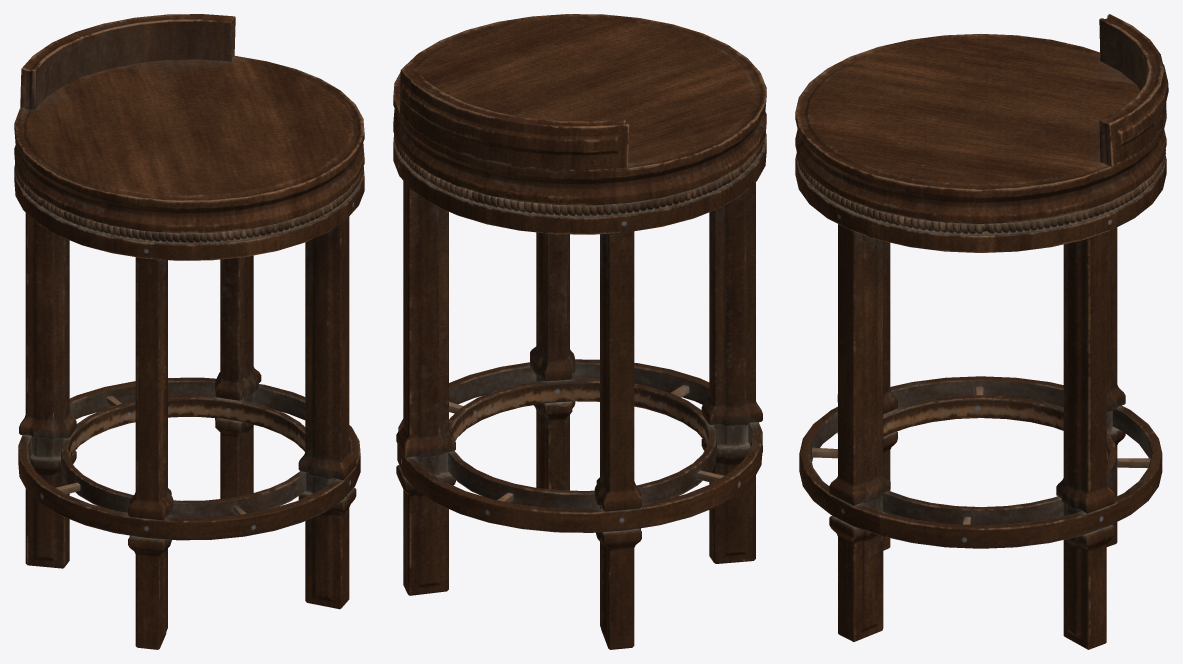
The model's file is bar_chair_round_01.obj.
The picture shows the model from 3 angles, left to right: view 1: azimuth 30°, elevation 25°; view 2: azimuth 150°, elevation 25°; view 3: azimuth 270°, elevation 25°; orthographic projection. The views are drawn at different scales.
Parts seen in each view (by area): view 1: Cubo; view 2: Cubo; view 3: Cubo.
Part boxes in pixels (x1,y1,x2,y2): Cubo: [14, 14, 364, 649]; Cubo: [393, 14, 766, 649]; Cubo: [795, 14, 1168, 649].
Size of the model in its own units: 0.4832 by 0.7505 by 0.486.
Materials: 1 (1 with a texture image).
